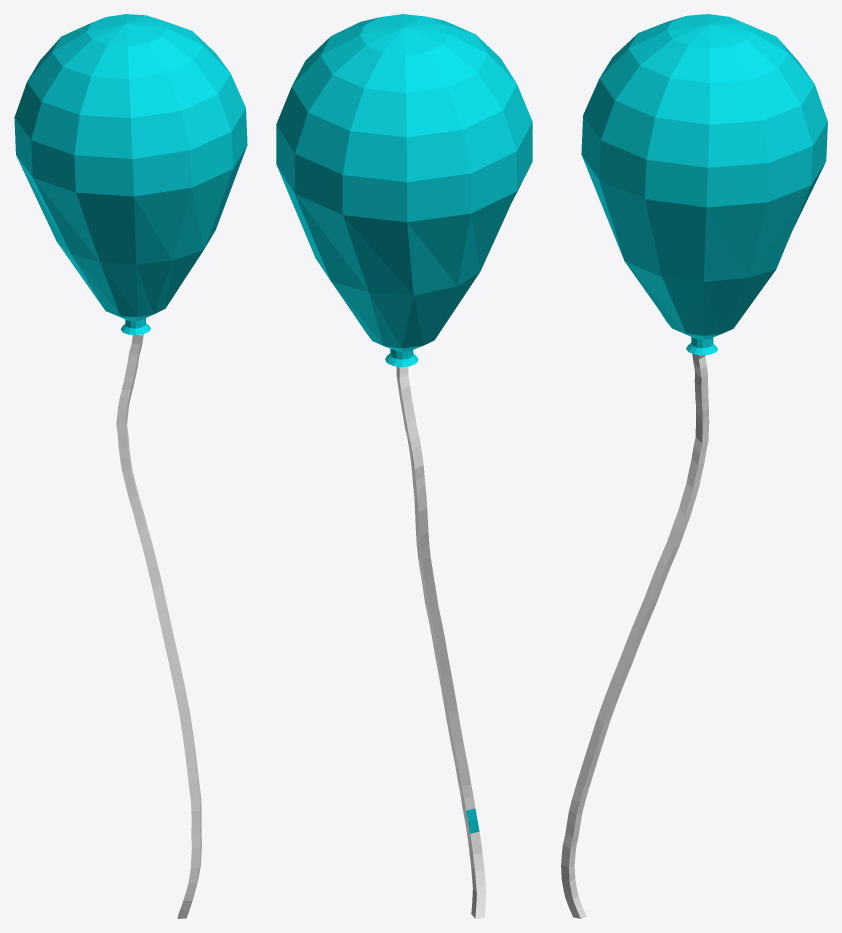
Rendered from balloon.glb.
The picture shows the model from 3 angles, left to right: view 1: azimuth 30°, elevation 25°; view 2: azimuth 150°, elevation 25°; view 3: azimuth 270°, elevation 25°; orthographic projection. The views are drawn at different scales.
Visible parts, largest first — view 1: Object001; view 2: Object001; view 3: Object001.
Boxes of the visible parts, x1=… form: Object001: x1=14, y1=14, x2=247, y2=918; Object001: x1=276, y1=14, x2=532, y2=918; Object001: x1=561, y1=14, x2=827, y2=918.
Bounding box in the file's own units: 15.28 × 61.44 × 16.59.
